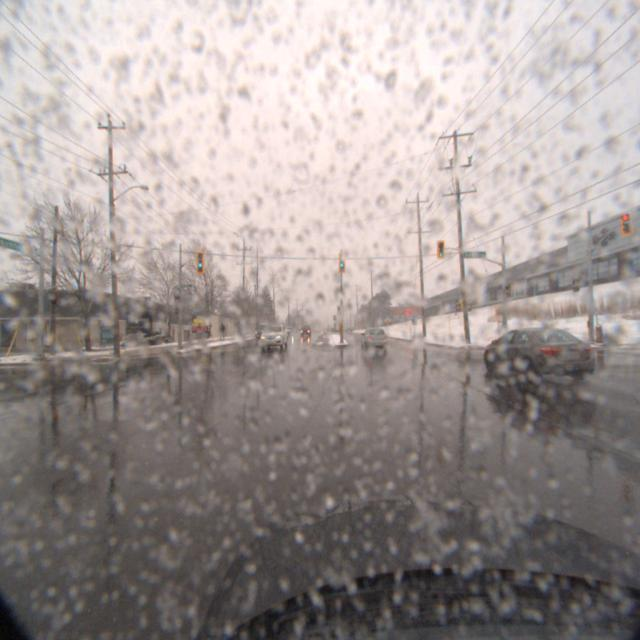Car: (473, 319, 595, 391), (257, 322, 291, 349), (360, 327, 390, 352)
